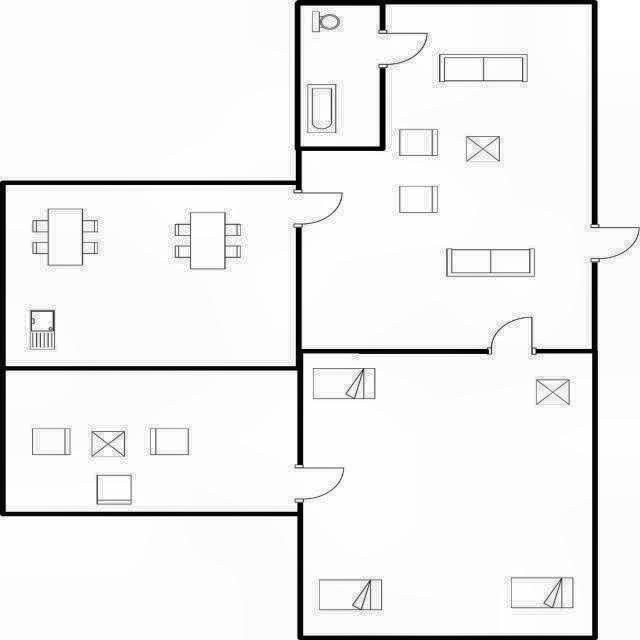room: (301, 4, 592, 349), (303, 353, 592, 636), (6, 185, 296, 366), (6, 371, 297, 512), (301, 6, 380, 147)
